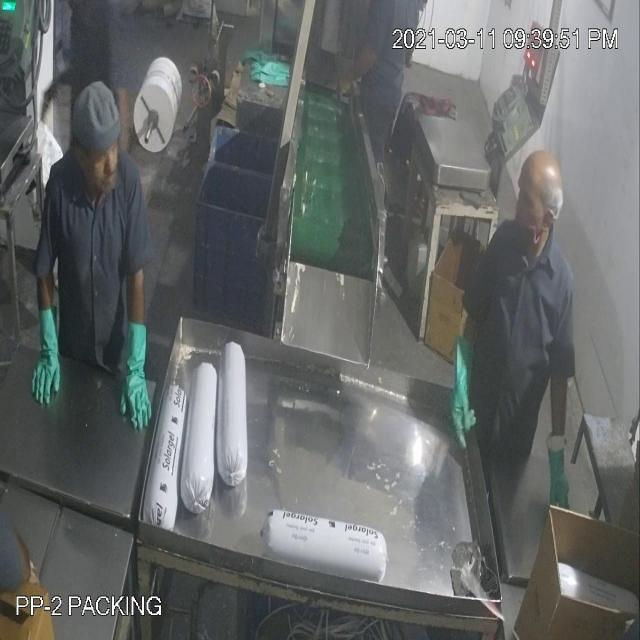Gloves: (46, 54, 466, 393)
